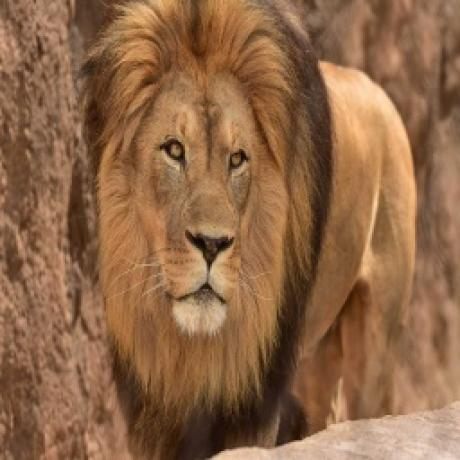Lion: (79, 0, 421, 460)
